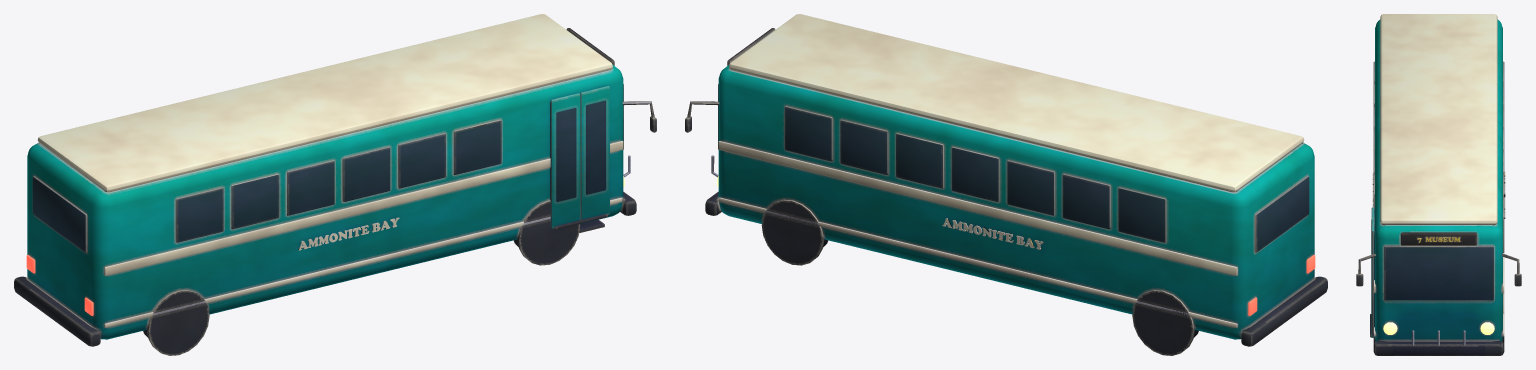
Rendered from bus_city.glb.
3 renders of one model, left to right at view 1: azimuth 30°, elevation 25°; view 2: azimuth 150°, elevation 25°; view 3: azimuth 270°, elevation 25°, orthographic. The views are drawn at different scales.
Parts seen in each view (by area): view 1: Body, Door, DoorWell; view 2: Body; view 3: Body, Door, DoorWell.
Part boxes in pixels (x1,y1,x2,y2): Body: (14, 14, 656, 355); Door: (550, 86, 609, 228); DoorWell: (550, 102, 607, 233); Body: (685, 14, 1327, 355); Body: (1356, 14, 1521, 355); Door: (1371, 207, 1374, 337); DoorWell: (1370, 210, 1375, 341).
Size of what is drawn, in the model's own units: 10.65 by 3.29 by 3.24.
3 materials, 1 textured.
